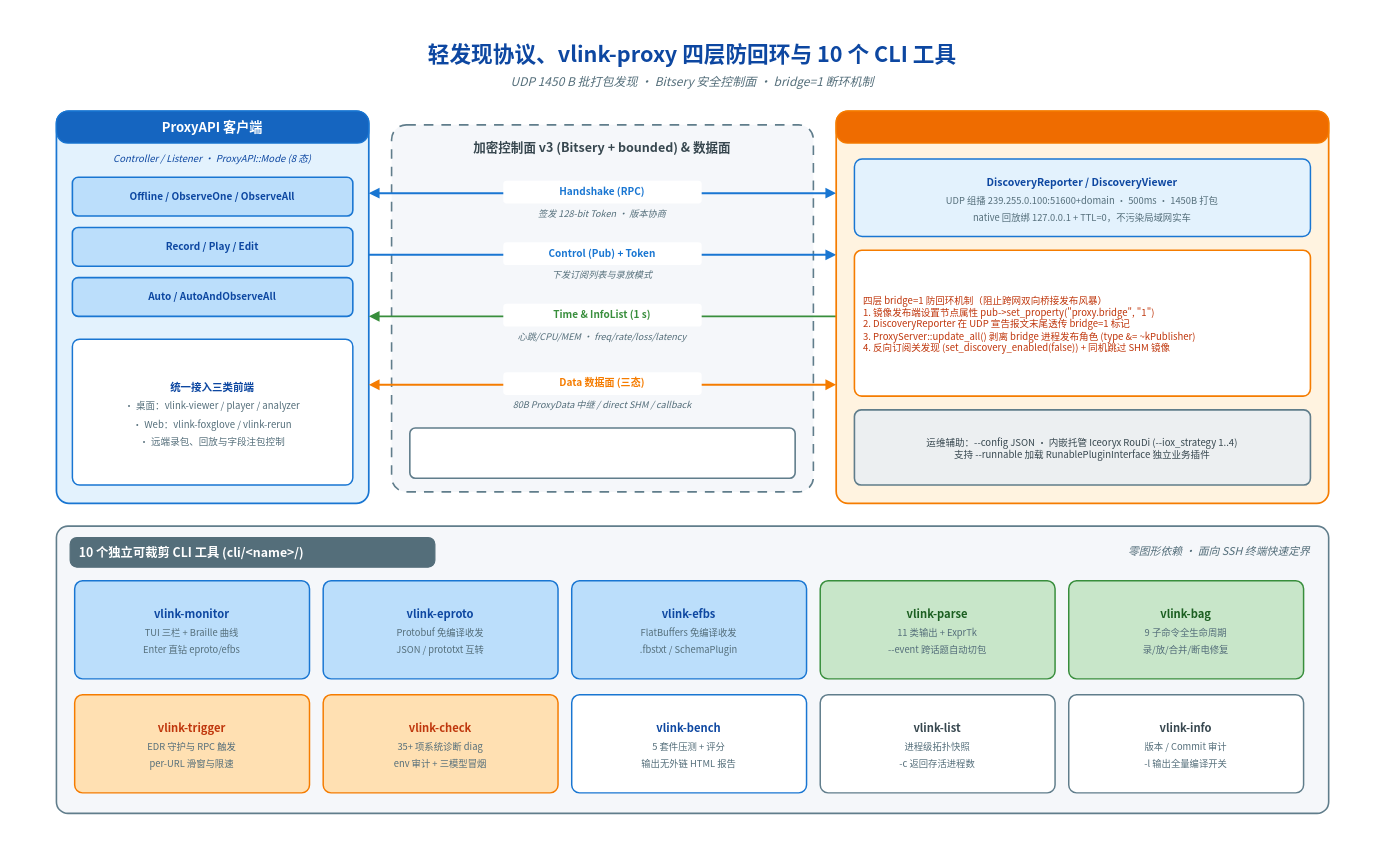
Image size: 1384x860. Some labels were removed from this diagram. The box of each missing label's shape, as (x1, y1, x2, y2) in pixels:
5 s 无心跳判定断线，重连自动恢复 last_control: (408, 427, 795, 478)
ProxyServer (vlink-proxy) & Discovery: (835, 110, 1329, 143)
